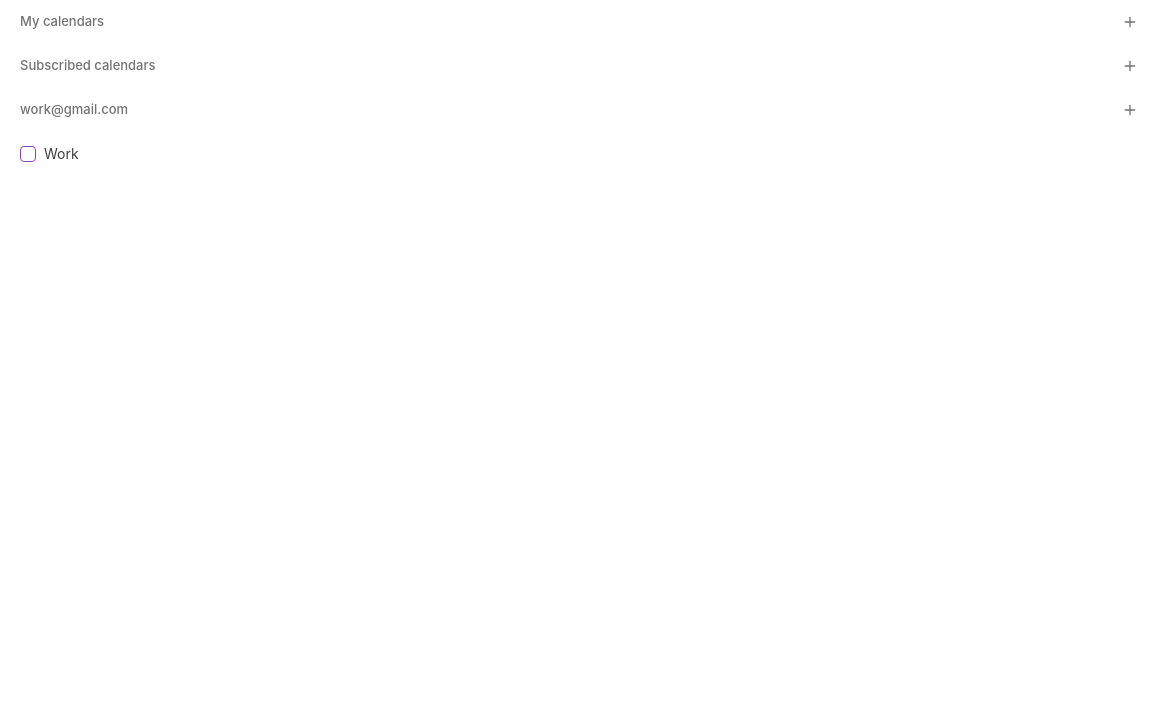
Test case: Linked Calendar grouping › re-opens the Calendar picker from the Connection heading
Click the button named "Choose calendars from work@gmail.com": (1130, 110) left=1116, top=96, right=1144, bottom=124
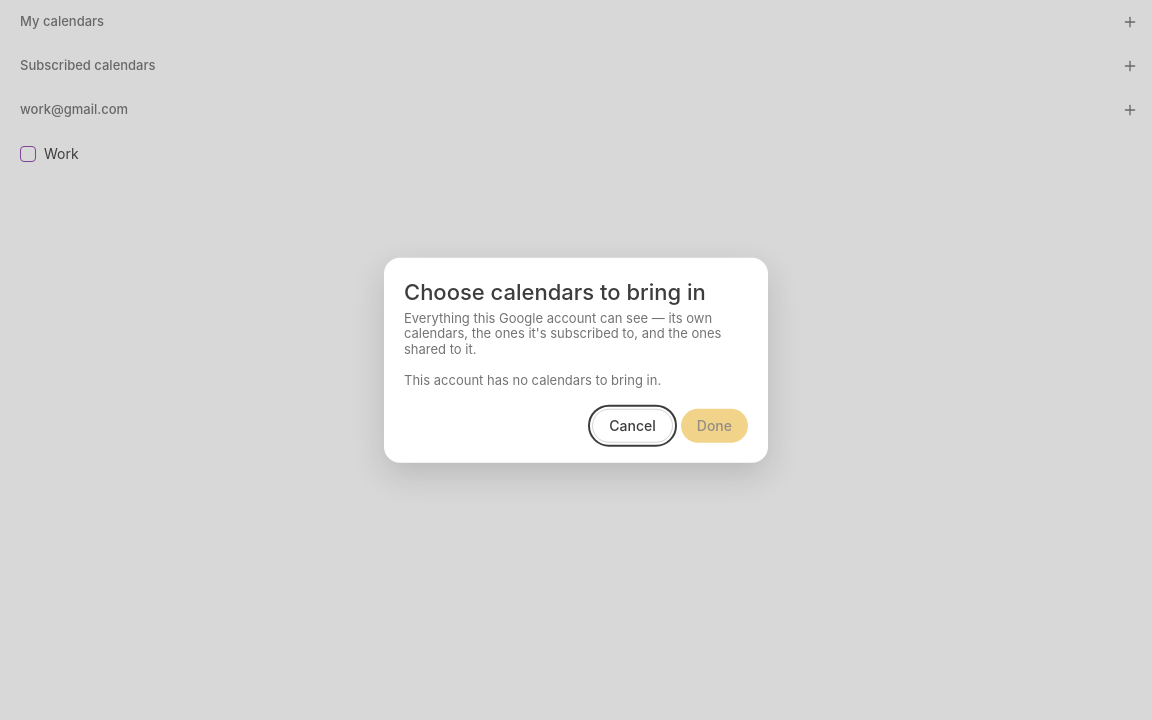
expect the heading "Choose calendars to bring in" is shown: met, box left=404, top=278, right=748, bottom=306
